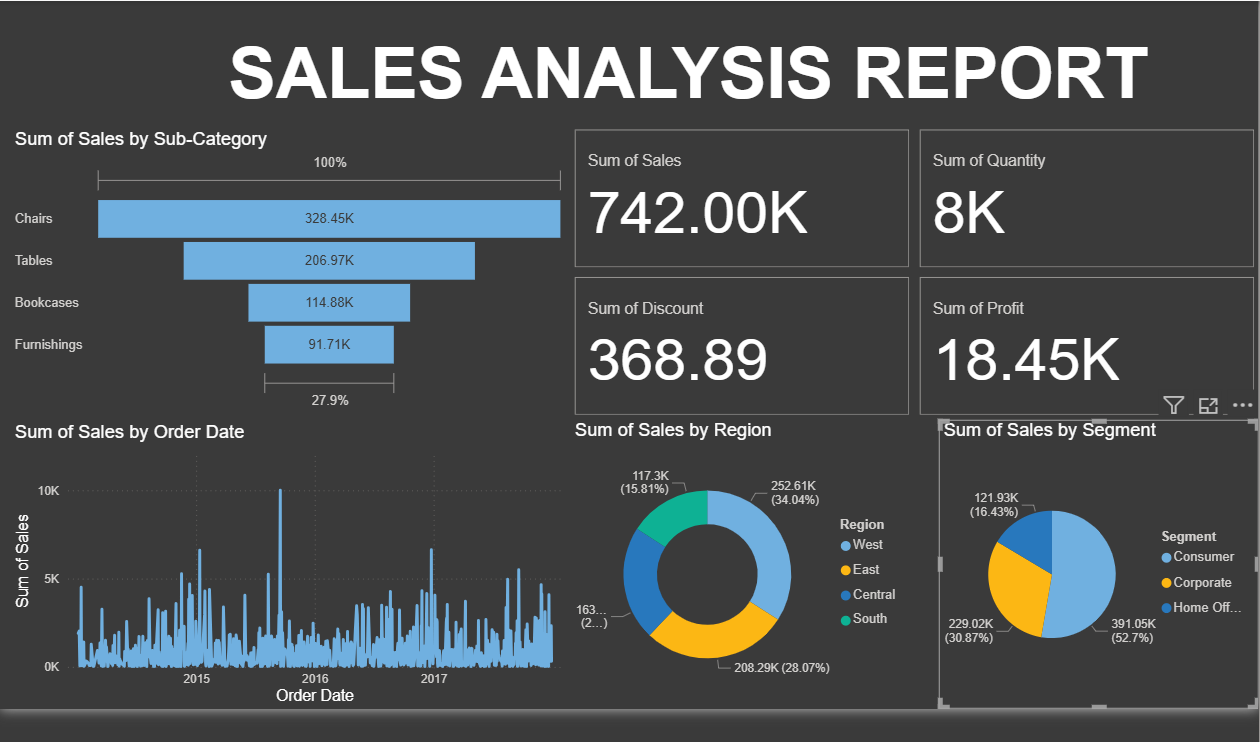

This screenshot's page, from the dashboard's own definition file:
{"tool":"powerbi","page":{"name":"Page 1","canvas":[1280,720],"ordinal":0},"visuals":[{"type":"donutChart","fields":{"Category":["stores_sales_forecasting.Region"],"Y":["Sum(stores_sales_forecasting.Sales)"]},"box":[580,425.7,345.7,294.3],"z":0},{"type":"funnel","fields":{"Category":["stores_sales_forecasting.Sub-Category"],"Y":["Sum(stores_sales_forecasting.Sales)"]},"box":[10,130,570,291.4],"z":1000},{"type":"pieChart","fields":{"Category":["stores_sales_forecasting.Segment"],"Y":["Sum(stores_sales_forecasting.Sales)"]},"box":[954.3,425.7,325.7,294.3],"z":2000},{"type":"lineChart","fields":{"Category":["stores_sales_forecasting.Order Date"],"Y":["Sum(stores_sales_forecasting.Sales)"]},"box":[10,427.1,570,292.9],"z":3000},{"type":"cardVisual","fields":{"Data":["Sum(stores_sales_forecasting.Sales)"]},"box":[580,125.7,350,150],"z":4000},{"type":"cardVisual","fields":{"Data":["Sum(stores_sales_forecasting.Quantity)"]},"box":[930,125.7,350,150],"z":5000},{"type":"cardVisual","fields":{"Data":["Sum(stores_sales_forecasting.Profit)"]},"box":[930,275.7,350,150],"z":6000},{"type":"cardVisual","fields":{"Data":["Sum(stores_sales_forecasting.Discount)"]},"box":[580,275.7,350,150],"z":7000},{"type":"textbox","box":[138.6,28.6,1141.4,101.4],"z":9000}]}

Visuals, with their boxes on the page's 1280x720 design canvas (x1, y1, x2, y2). These are canvas units, not pixel positions in the 1260x742 screenshot, which may show the page scaled, cropped or inside an application window:
donutChart - stores_sales_forecasting.Region x Sum(stores_sales_forecasting.Sales): bbox=(580, 426, 926, 720)
funnel - stores_sales_forecasting.Sub-Category x Sum(stores_sales_forecasting.Sales): bbox=(10, 130, 580, 421)
pieChart - stores_sales_forecasting.Segment x Sum(stores_sales_forecasting.Sales): bbox=(954, 426, 1280, 720)
lineChart - stores_sales_forecasting.Order Date x Sum(stores_sales_forecasting.Sales): bbox=(10, 427, 580, 720)
cardVisual - Sum(stores_sales_forecasting.Sales): bbox=(580, 126, 930, 276)
cardVisual - Sum(stores_sales_forecasting.Quantity): bbox=(930, 126, 1280, 276)
cardVisual - Sum(stores_sales_forecasting.Profit): bbox=(930, 276, 1280, 426)
cardVisual - Sum(stores_sales_forecasting.Discount): bbox=(580, 276, 930, 426)
textbox: bbox=(139, 29, 1280, 130)
